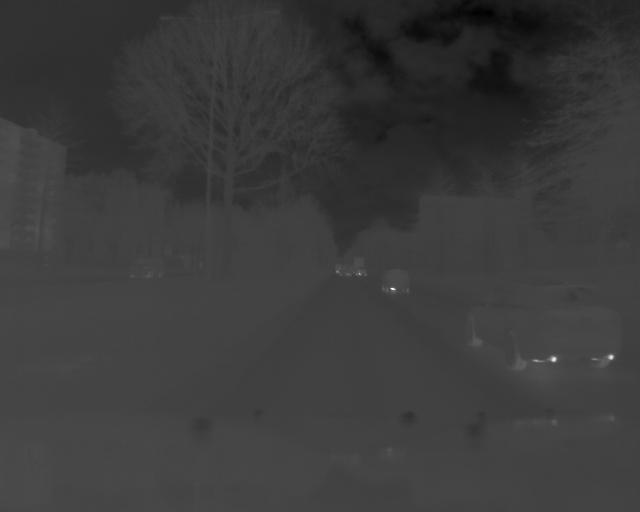car: (464, 279, 624, 373), (379, 269, 408, 293)
